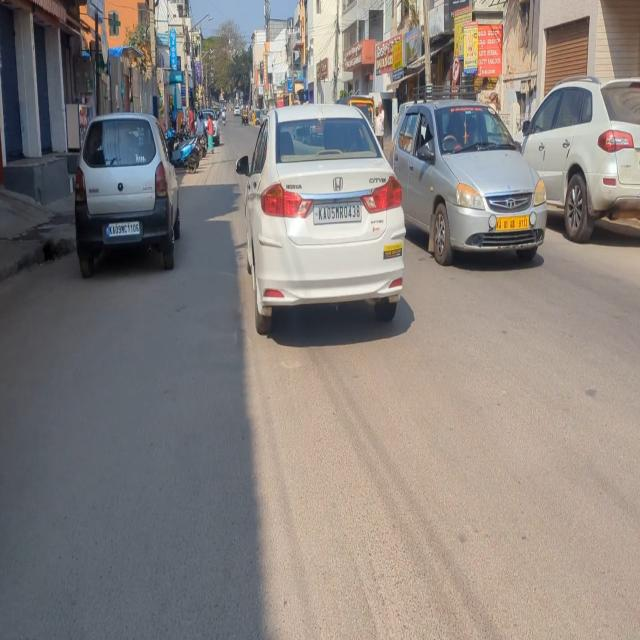bien_cam: (452, 56, 460, 82)
